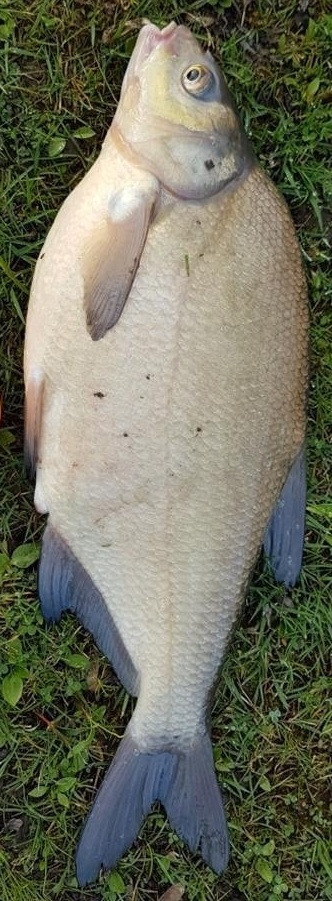Abramis brama: (20, 20, 312, 886)
